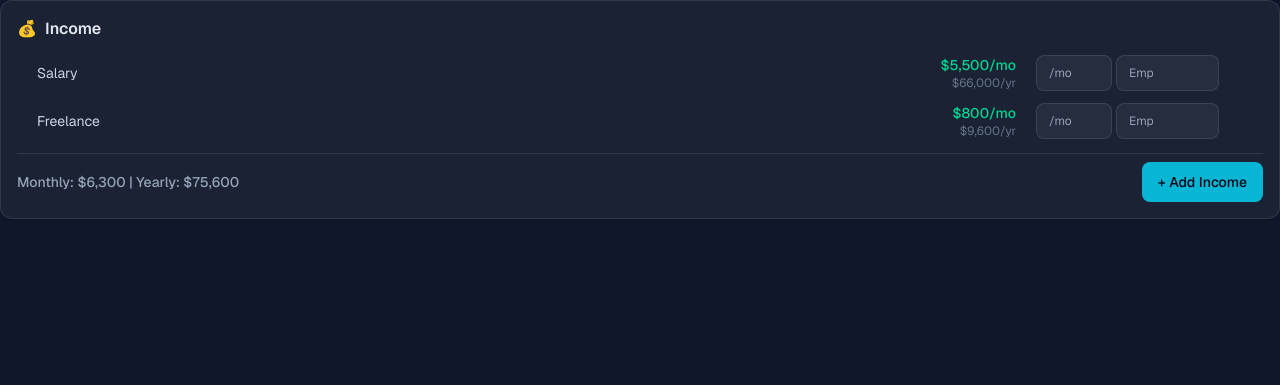
Test: IncomeEntry component › adds a new income item via the add form
Step 1. Click the button "+ Add Income" → click(1202, 182), box [1142,162,1263,202]
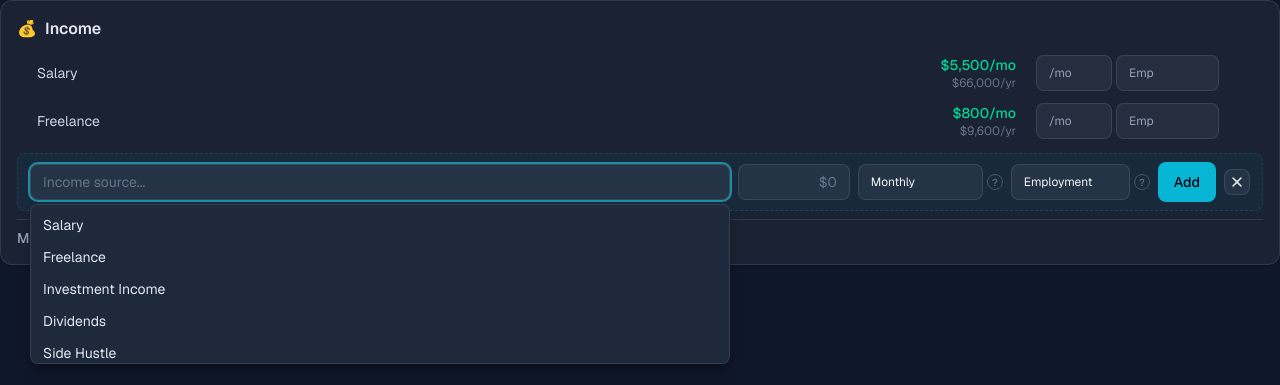
Step 2. Type "Side Hustle" into the field named "New income category" → (380, 182), box [30,164,730,200]
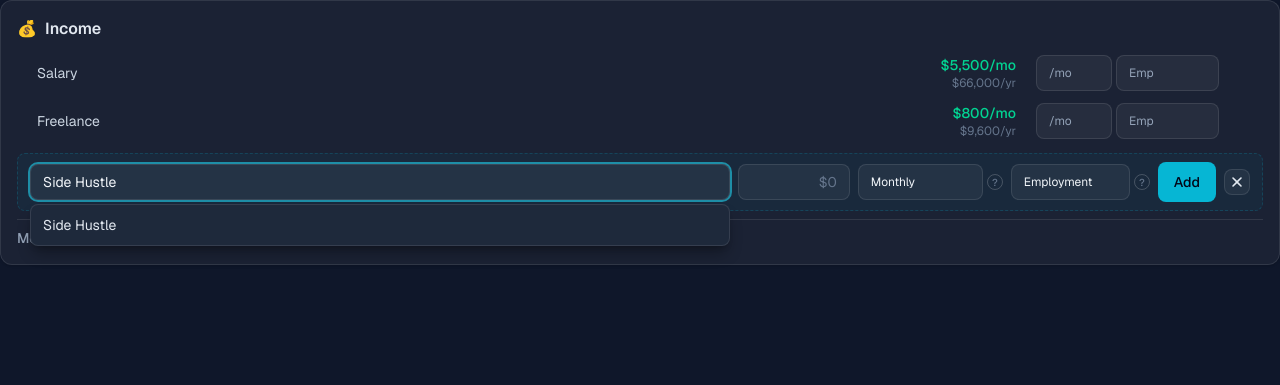
Step 3. Type "500" into the field named "New income amount" → (794, 182), box [738,164,850,200]
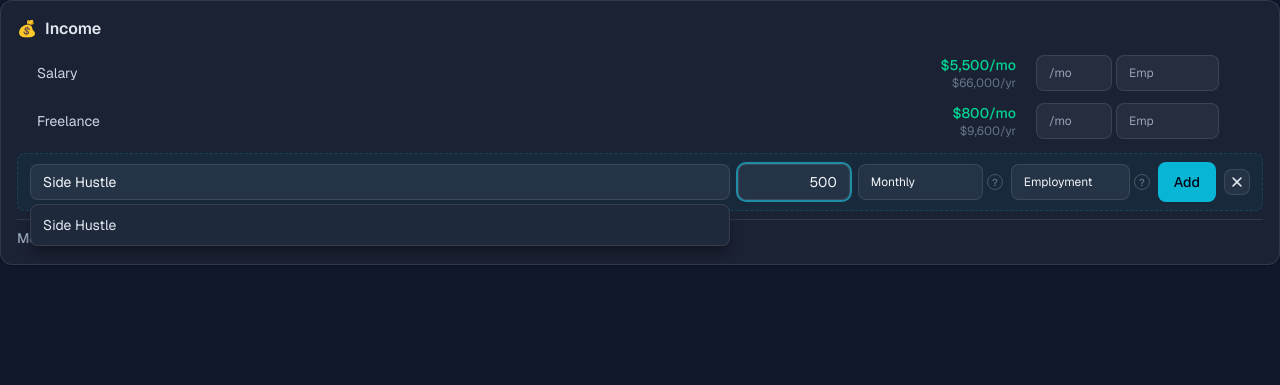
Step 4. Click the button with aria-label "Confirm add income" → click(1187, 182), box [1158,162,1216,202]
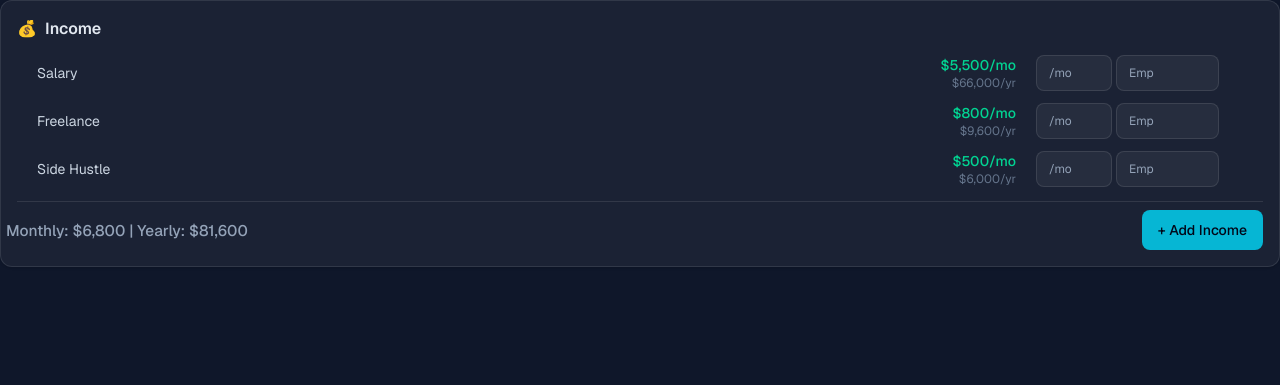
Result: the button "Side Hustle" is shown at [29,155,118,183]
Result: the text "$500/mo" is shown at [952,151,1016,171]
Result: the text with test id "income-monthly-total" reads "$6,800" at [72,220,126,240]
